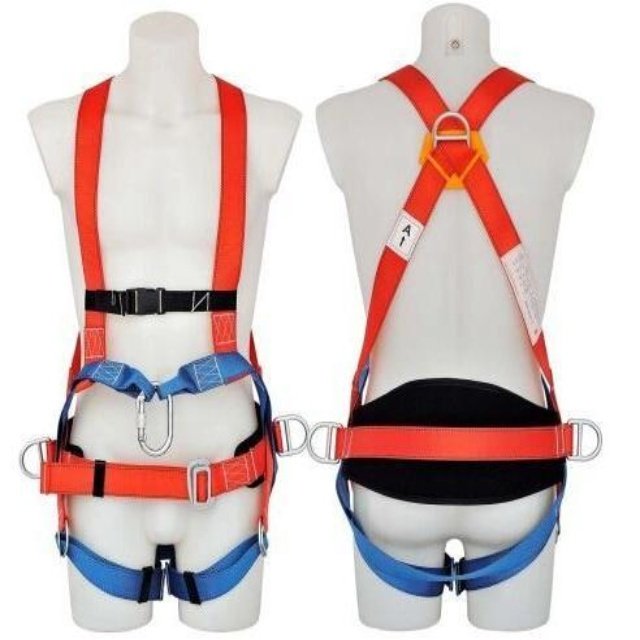Arnes_seguridad: (357, 67, 564, 556), (61, 83, 254, 593)
